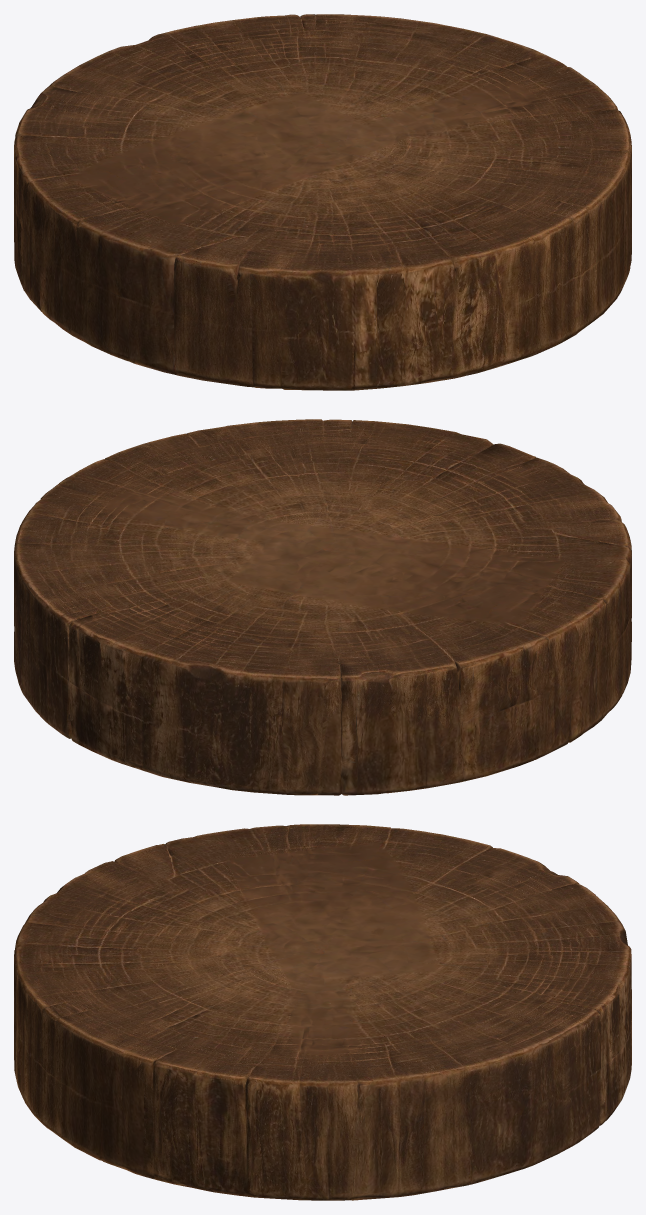
The model's file is d_board.glb.
The picture shows the model from 3 angles, top to bottom: view 1: azimuth 30°, elevation 25°; view 2: azimuth 150°, elevation 25°; view 3: azimuth 270°, elevation 25°; orthographic projection.
Size of the model in its own units: 1.9 by 0.4066 by 1.9.
1 material, 1 textured.
